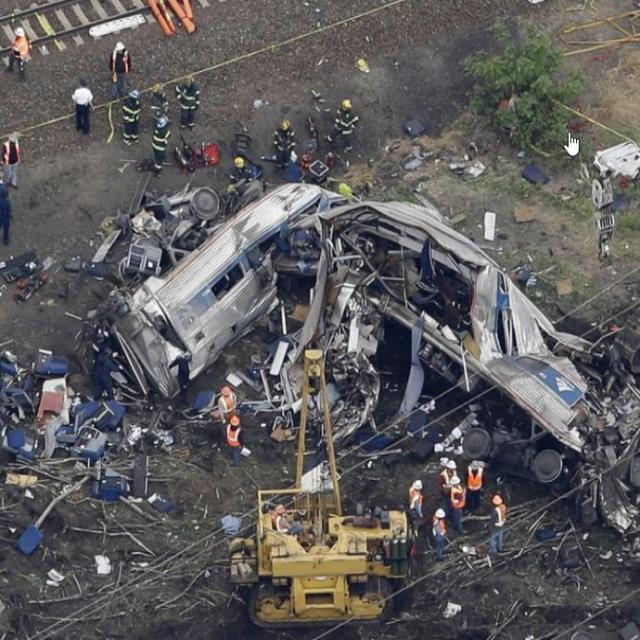traffic_incident: (56, 173, 622, 472)
